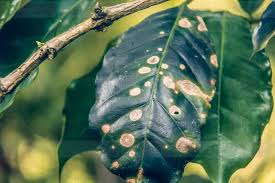roya: (143, 23, 206, 166)
